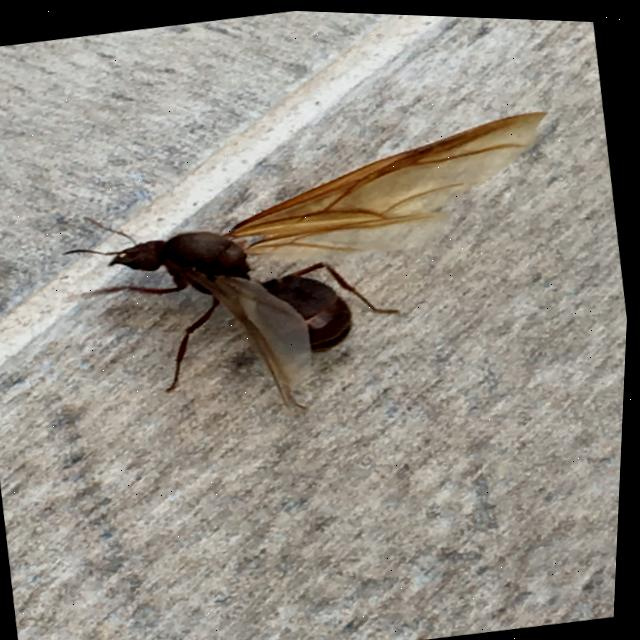Alive-Female-Alate: (43, 91, 589, 449)
